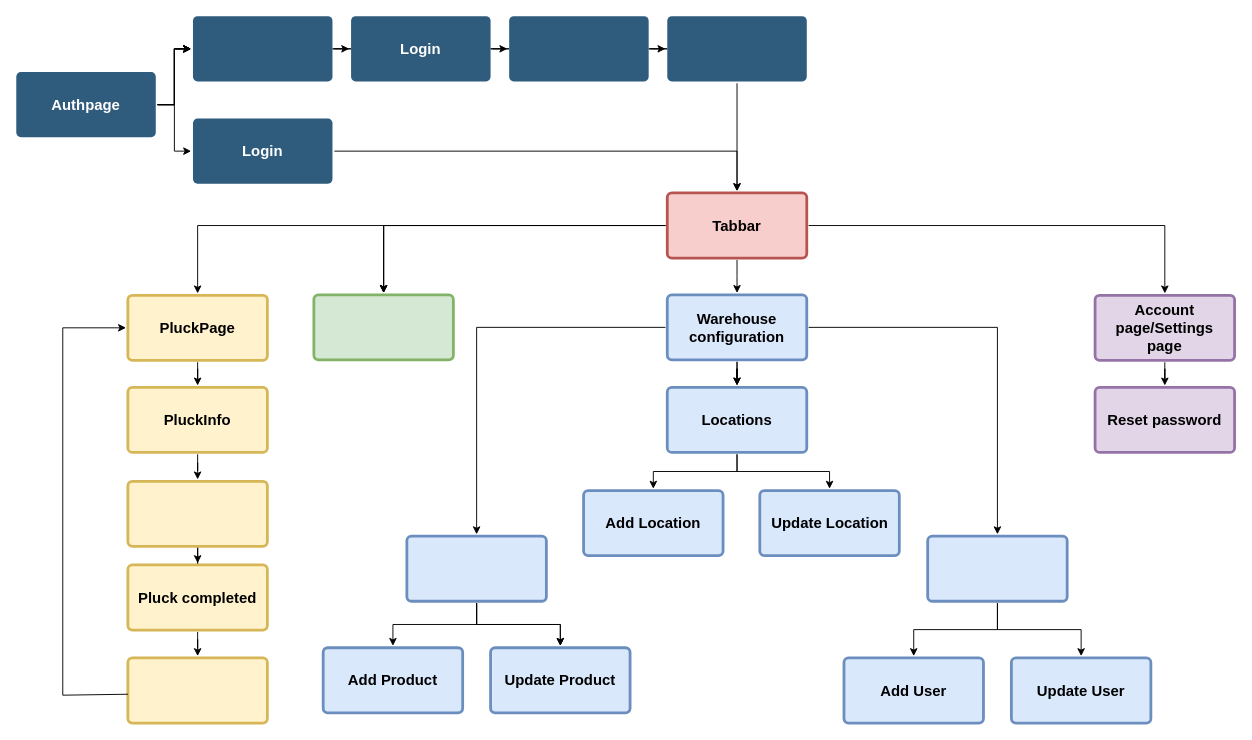
Some shapes in this 1252 by 740 pixel diagram are drawn without their labels. The centre of each missing label's shape, as x and y in pixels:
Create/join warehouse: (736,48)
Email verification: (578,48)
Pluck finish: (197,690)
Pluck list display: (197,513)
Products: (476,568)
Signup: (262,48)
Speech/TTS log: (383,327)
Users: (997,568)
